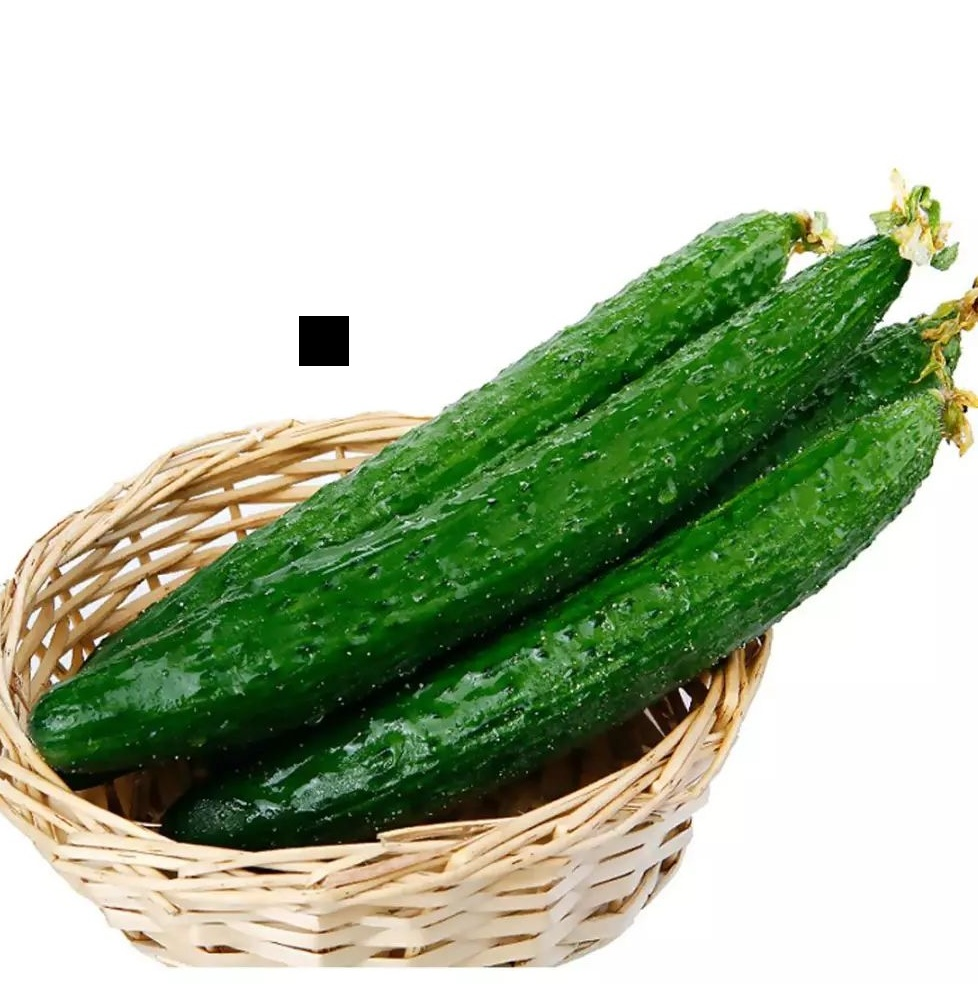cucumber: (52, 238, 914, 768), (209, 398, 944, 872)
